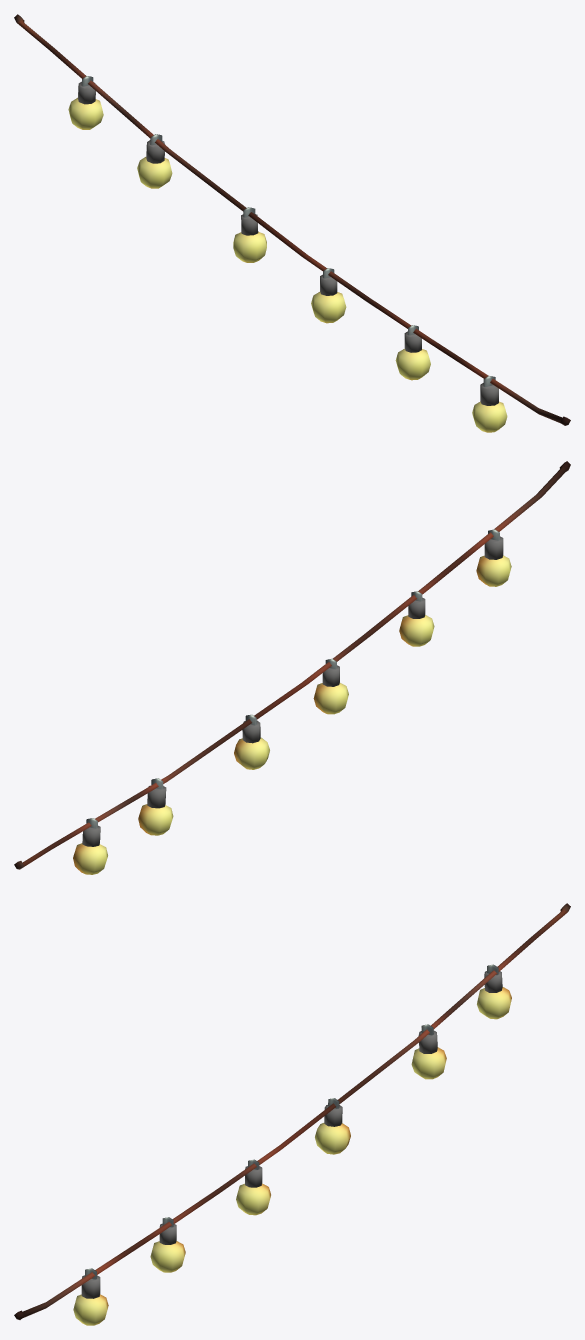
Rendered from CBS_obj_WiretLight_S.FBX.
3 views of the same model, one above another, from view 1: azimuth 30°, elevation 25°; view 2: azimuth 150°, elevation 25°; view 3: azimuth 330°, elevation 25° (orthographic).
Parts seen in each view (by area): view 1: CBS_obj_WiretLight_S; view 2: CBS_obj_WiretLight_S; view 3: CBS_obj_WiretLight_S.
Part boxes in pixels (x1=…): CBS_obj_WiretLight_S: x1=14, y1=14, x2=570, y2=432; CBS_obj_WiretLight_S: x1=14, y1=461, x2=570, y2=874; CBS_obj_WiretLight_S: x1=14, y1=903, x2=570, y2=1325.
Bounding box in the file's own units: 16.9 × 38.5 × 479.
